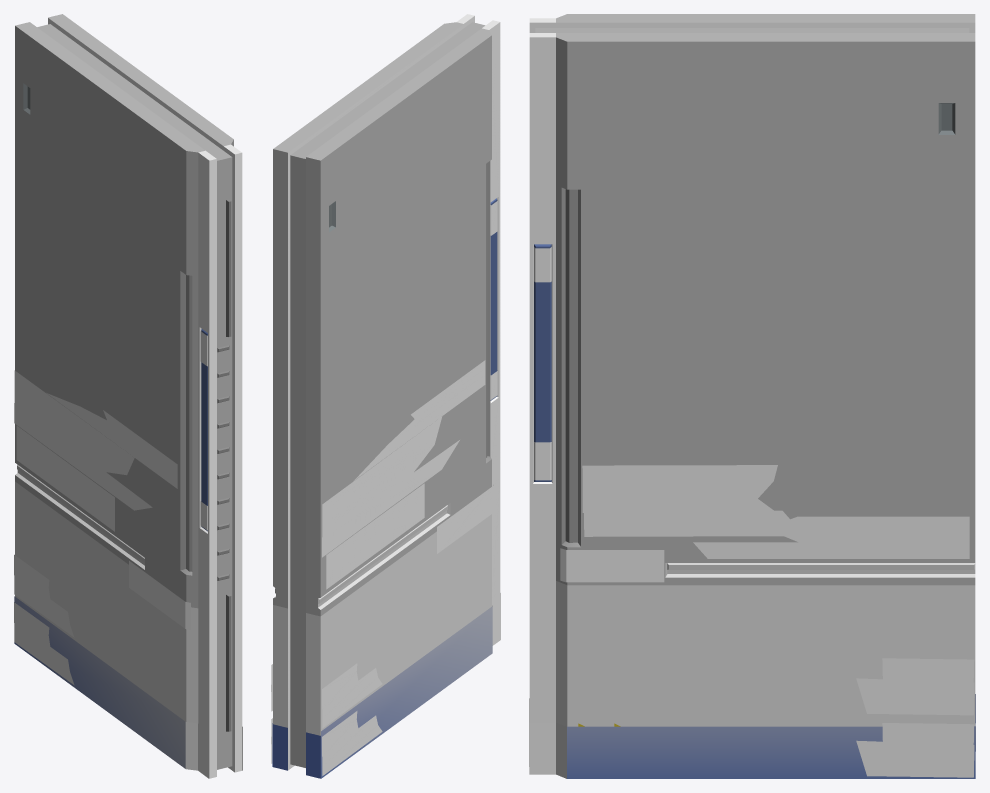
The picture shows the model from 3 angles, left to right: view 1: azimuth 30°, elevation 25°; view 2: azimuth 150°, elevation 25°; view 3: azimuth 270°, elevation 25°; orthographic projection. The views are drawn at different scales.
Visible parts, largest first — view 1: SM_H_Medium_Door_02; view 2: SM_H_Medium_Door_02; view 3: SM_H_Medium_Door_02.
Boxes of the visible parts, left/top/right/bottom form: SM_H_Medium_Door_02: left=14, top=14, right=242, bottom=778; SM_H_Medium_Door_02: left=271, top=14, right=500, bottom=778; SM_H_Medium_Door_02: left=529, top=14, right=975, bottom=778.
Size of the model in its own units: 49.06 by 7.86 by 89.28.
